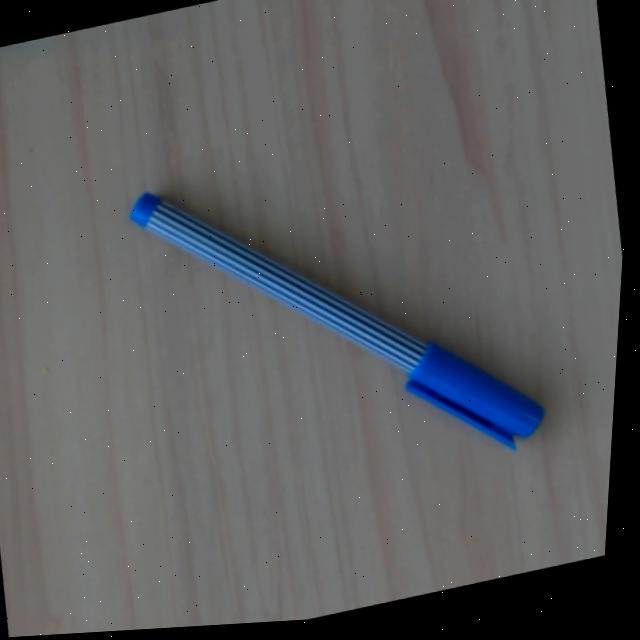Pulpen-Garis-Biru: (124, 178, 548, 455)
